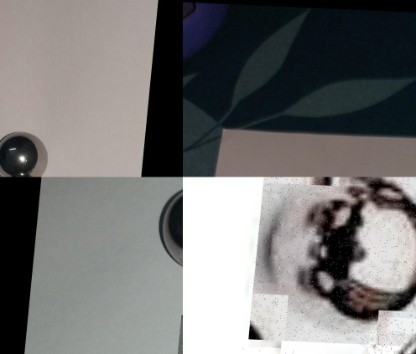ironball: (254, 177, 415, 344), (0, 126, 49, 178), (153, 185, 183, 267), (371, 314, 415, 354), (217, 344, 322, 354)
